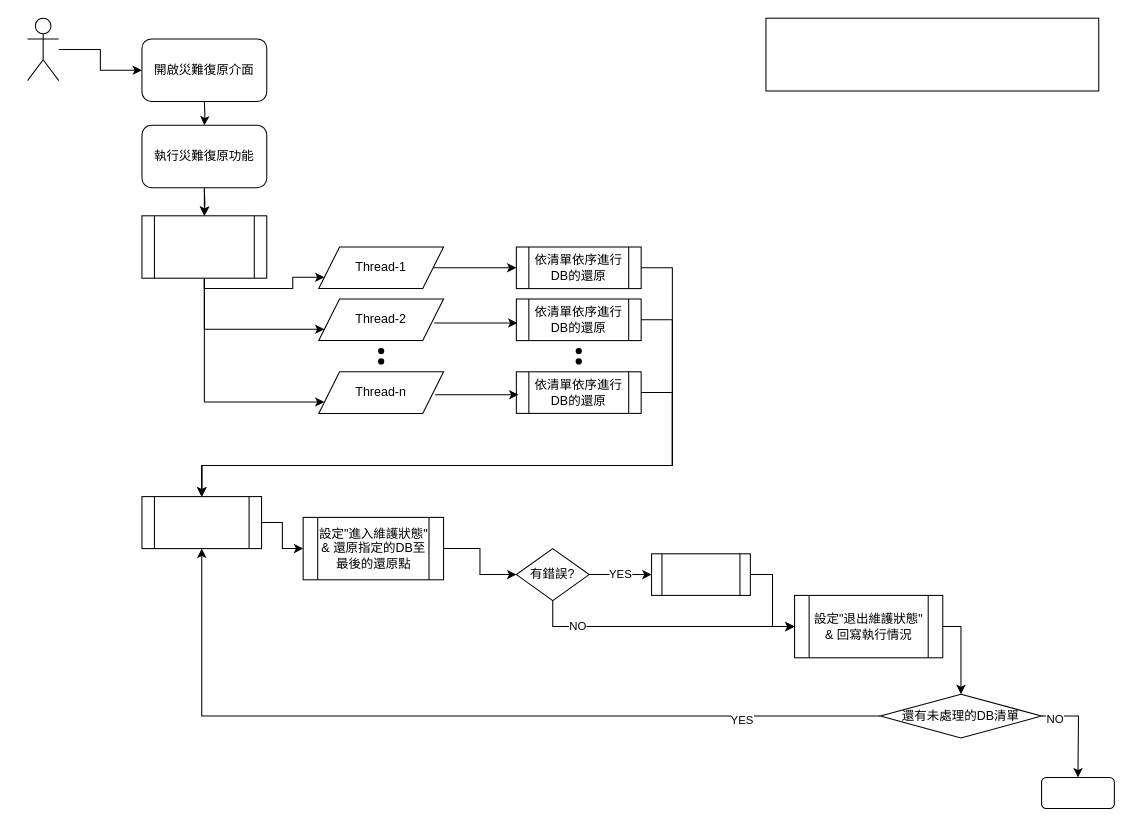
Some shapes in this 1133 by 827 pixel diagram are drawn without their labels. The centre of each missing label's shape, as x and y in pixels:
"<< 前提 >> 1. WellwareProject已還原成功 2. (BAK)&(TRN)已確實放至備份目錄上 & 目錄都正確" goes at [932,54].
"END" goes at [1077,792].
"WriteLOG" goes at [700,574].
"依不同的備份目錄，各自列出DB的清單" goes at [204,246].
"維護人員" goes at [43,49].
"讀出一筆未處理的DB清單" goes at [201,522].
